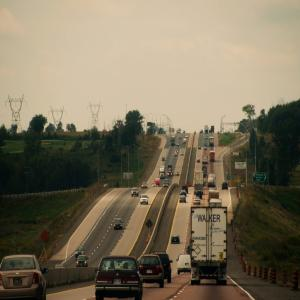Vehicle-registration-plate: (13, 279, 23, 287), (114, 280, 122, 285), (147, 271, 153, 274)
